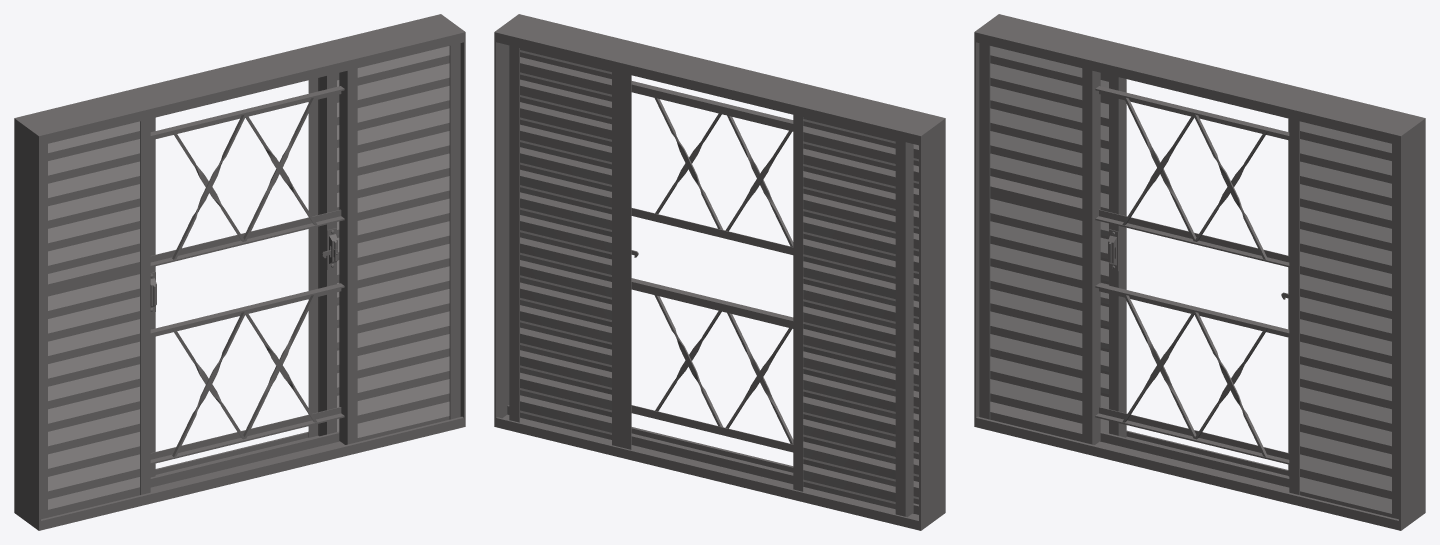
The model's file is window_basic_01.glb.
3 views of the same model, side by side, from view 1: azimuth 30°, elevation 25°; view 2: azimuth 150°, elevation 25°; view 3: azimuth 330°, elevation 25° (orthographic).
Visible parts, largest first — view 1: Folha Interna001, Quadro001, Folha Externa Direita001, Folha Externa Esquerda001; view 2: Folha Externa Direita001, Folha Externa Esquerda001, Quadro001, Folha Interna001; view 3: Folha Interna001, Quadro001, Folha Externa Esquerda001, Folha Externa Direita001.
Part boxes in pixels (box(x1,y1,x2,y2)): Folha Interna001: box(41, 43, 460, 519); Quadro001: box(14, 14, 465, 530); Folha Externa Direita001: box(308, 73, 339, 437); Folha Externa Esquerda001: box(150, 117, 156, 477); Folha Externa Direita001: box(509, 45, 631, 449); Folha Externa Esquerda001: box(793, 115, 913, 517); Quadro001: box(494, 14, 945, 530); Folha Interna001: box(631, 81, 918, 504); Folha Interna001: box(979, 43, 1398, 519); Quadro001: box(974, 14, 1425, 530); Folha Externa Esquerda001: box(1100, 73, 1126, 437); Folha Externa Direita001: box(1288, 118, 1289, 476).
Bounding box in the file's own units: 1.12 × 0.9913 × 0.1126.
Materials: 1 (1 with a texture image).
